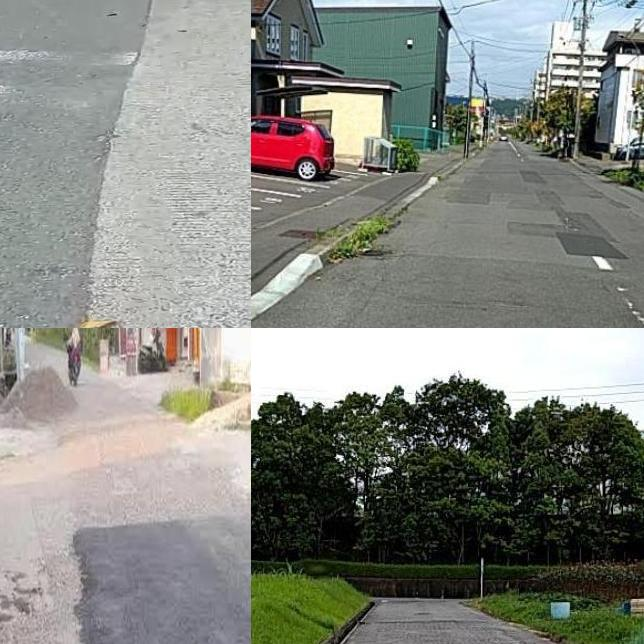Sambungan: (83, 0, 251, 328), (75, 515, 251, 644), (561, 231, 621, 259)
